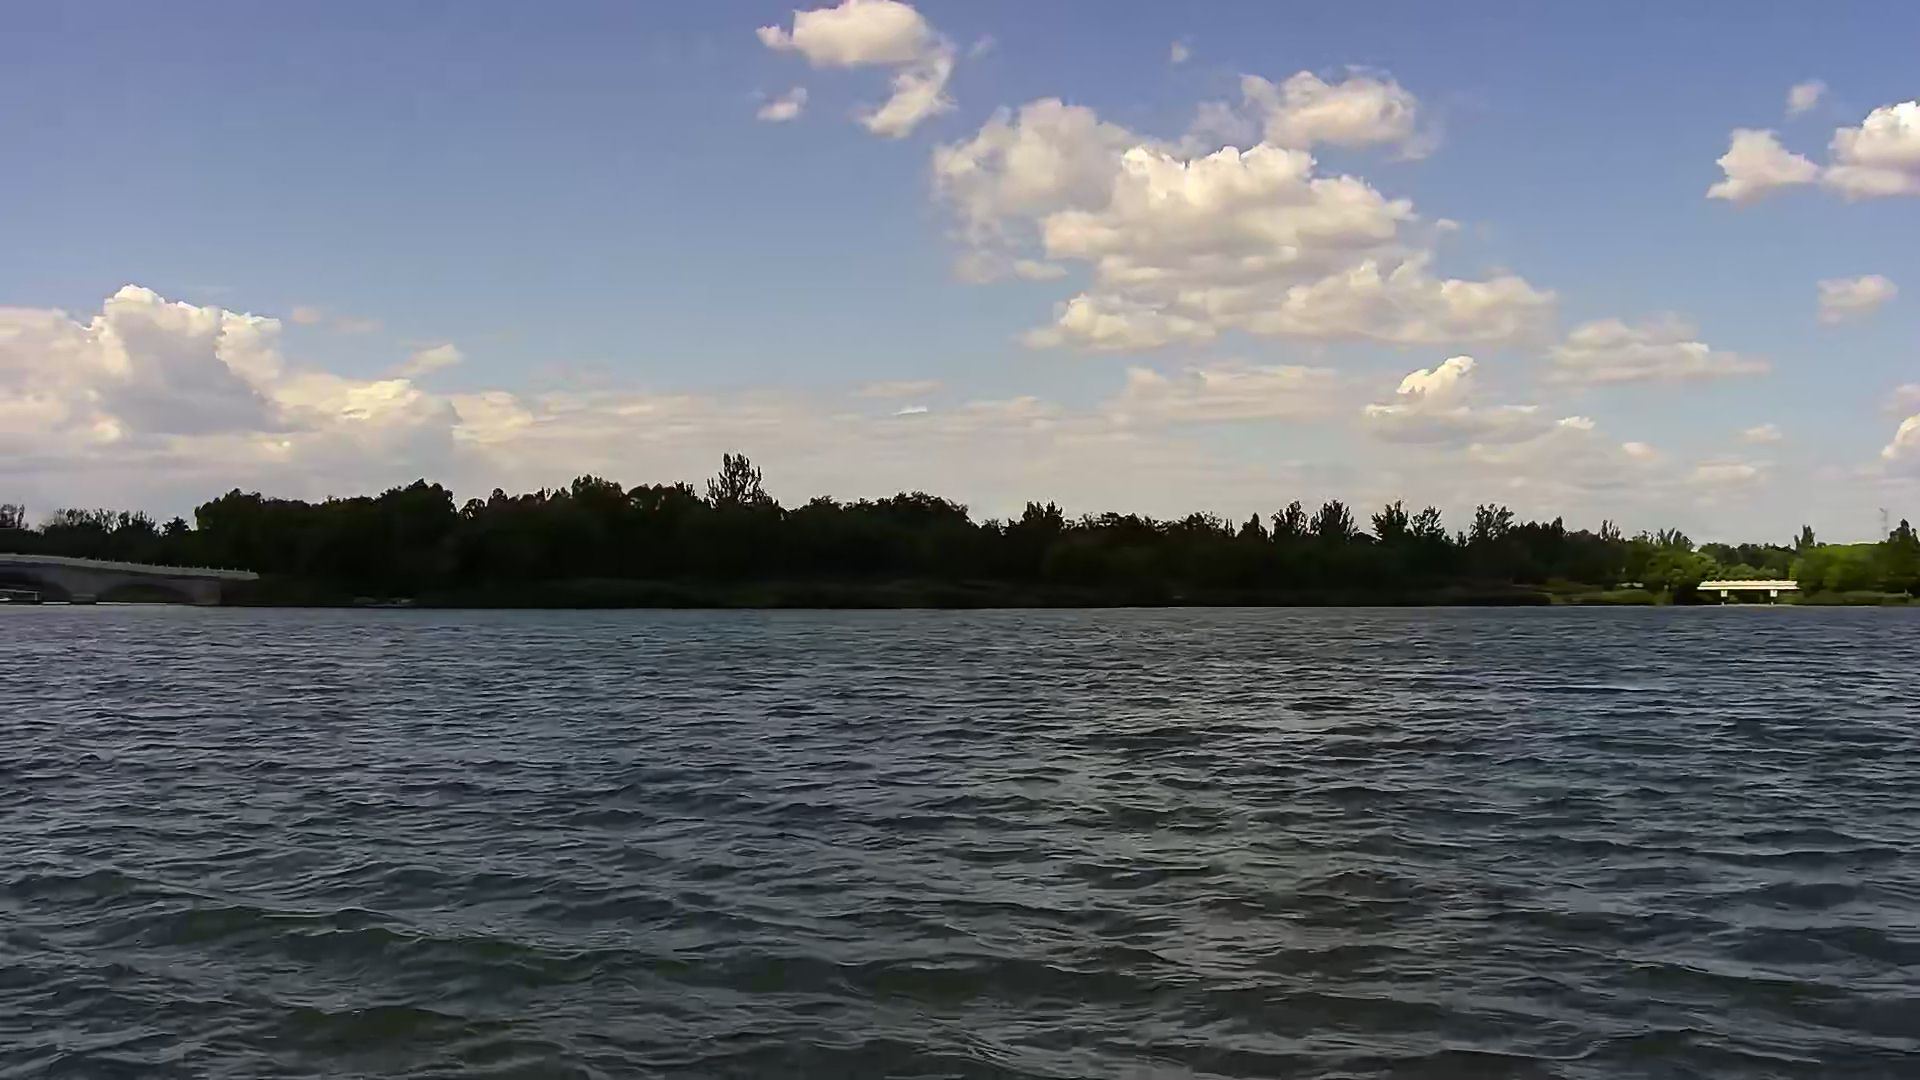bridge: (1, 553, 264, 607), (1698, 578, 1805, 608)
